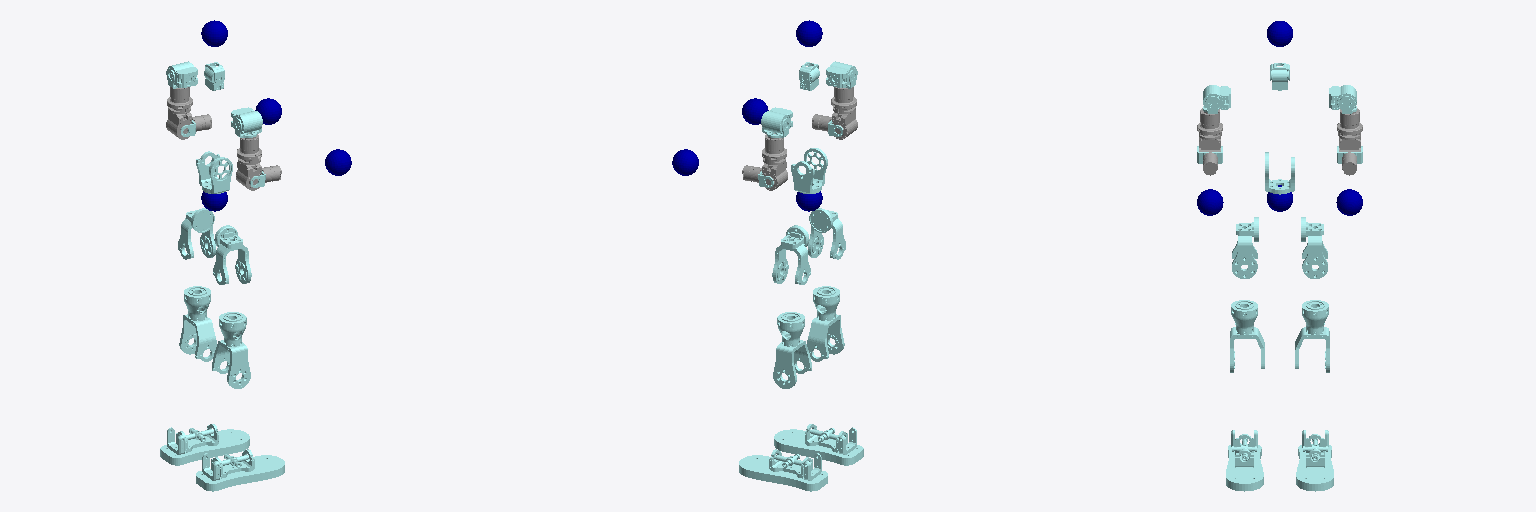
--- What the picture shows (computed from the rendered views, not written in the file) ---
Views: 3 orthographic renders of the robot side by side, from view 1: azimuth 30°, elevation 25°; view 2: azimuth 150°, elevation 25°; view 3: azimuth 270°, elevation 25°.
Model ymbot_E with 35 links and 34 joints (22 revolute, 12 fixed), rooted at base_link_o, posed all joints at 0.
Visible links, largest first — view 1: right_ankle_roll_link, left_ankle_roll_link, right_leg_yaw_link, left_leg_yaw_link, right_leg_pitch_link, left_leg_pitch_link, waist_yaw_link, right_arm_yaw_link, left_arm_yaw_link, left_shoulder_pitch_link, right_shoulder_pitch_link, right_hand_link (+1 smaller); view 2: left_ankle_roll_link, right_ankle_roll_link, left_leg_yaw_link, right_leg_yaw_link, left_leg_pitch_link, right_leg_pitch_link, waist_yaw_link, left_arm_yaw_link, right_arm_yaw_link, right_shoulder_pitch_link, left_hand_link, head_link_o (+1 smaller); view 3: left_ankle_roll_link, right_ankle_roll_link, left_leg_yaw_link, right_leg_yaw_link, left_leg_pitch_link, right_leg_pitch_link, left_arm_yaw_link, right_arm_yaw_link, waist_yaw_link, left_hand_link, right_hand_link, head_link_o.
Link boxes in pixels (x1=…): right_ankle_roll_link: x1=196, y1=449, x2=284, y2=491; left_ankle_roll_link: x1=160, y1=424, x2=249, y2=465; right_leg_yaw_link: x1=212, y1=312, x2=250, y2=388; left_leg_yaw_link: x1=179, y1=286, x2=216, y2=361; right_leg_pitch_link: x1=213, y1=225, x2=251, y2=284; left_leg_pitch_link: x1=178, y1=208, x2=215, y2=259; waist_yaw_link: x1=196, y1=151, x2=232, y2=193; right_arm_yaw_link: x1=236, y1=133, x2=261, y2=190; left_arm_yaw_link: x1=166, y1=87, x2=192, y2=139; left_shoulder_pitch_link: x1=168, y1=61, x2=197, y2=87; right_shoulder_pitch_link: x1=231, y1=107, x2=261, y2=133; right_hand_link: x1=325, y1=149, x2=351, y2=175; left_ankle_roll_link: x1=739, y1=449, x2=827, y2=491; right_ankle_roll_link: x1=774, y1=424, x2=863, y2=465; left_leg_yaw_link: x1=773, y1=312, x2=811, y2=388; right_leg_yaw_link: x1=807, y1=286, x2=844, y2=361; left_leg_pitch_link: x1=772, y1=225, x2=810, y2=284; right_leg_pitch_link: x1=808, y1=208, x2=845, y2=259; waist_yaw_link: x1=791, y1=148, x2=827, y2=193; left_arm_yaw_link: x1=762, y1=133, x2=787, y2=190; right_arm_yaw_link: x1=831, y1=87, x2=857, y2=139; right_shoulder_pitch_link: x1=826, y1=61, x2=855, y2=87; left_hand_link: x1=672, y1=149, x2=698, y2=175; head_link_o: x1=796, y1=20, x2=822, y2=46; left_ankle_roll_link: x1=1296, y1=430, x2=1333, y2=491; right_ankle_roll_link: x1=1226, y1=430, x2=1263, y2=491; left_leg_yaw_link: x1=1295, y1=300, x2=1329, y2=372; right_leg_yaw_link: x1=1230, y1=300, x2=1264, y2=372; left_leg_pitch_link: x1=1301, y1=217, x2=1327, y2=278; right_leg_pitch_link: x1=1232, y1=217, x2=1258, y2=278; left_arm_yaw_link: x1=1337, y1=108, x2=1362, y2=151; right_arm_yaw_link: x1=1197, y1=108, x2=1222, y2=151; waist_yaw_link: x1=1265, y1=152, x2=1294, y2=194; left_hand_link: x1=1336, y1=189, x2=1362, y2=215; right_hand_link: x1=1197, y1=189, x2=1223, y2=215; head_link_o: x1=1267, y1=21, x2=1292, y2=46.
Size in the robot's own frame: 0.4 by 0.4355 by 1.29 metres.
21 mesh visuals loaded from 28 distinct referenced files (21 binary STL); not drawn: 10 (reference not matched to a file when rendering).

robot.urdf — ymbot_E:
<?xml version="1.0" encoding="utf-8"?>
<!-- This URDF was automatically created by SolidWorks to URDF Exporter! Originally created by Stephen Brawner ([email redacted]) 
     Commit Version: 1.6.0-1-g15f4949  Build Version: 1.6.7594.29634
     For more information, please see http://wiki.ros.org/sw_urdf_exporter -->
<robot
  name="ymbot_E">
    <mujoco>
    <compiler meshdir="meshes"
      balanceinertia="true"
      discardvisual="false"/>
  </mujoco>
 
 
  <!--<link name="world"></link>
  <joint name="floating_base_joint" type="floating">
      <parent link="world" />
      <child link="base_link_o" />
  </joint>     --> 
  <!---->
  <link name="base_link_o">
    <inertial>
      <origin
        xyz="0  0 0"
        rpy="0 0 0" />
      <mass
        value="0.1" />
      <inertia
        ixx="0.00001"
        ixy="0"
        ixz="0"
        iyy="0.00001"
        iyz="0"
        izz="0.00001" />
    </inertial>
    <visual>
      <origin xyz="0.0 0.0 0.0" rpy="0 0 0"/>
        <geometry>
          <sphere radius="0.035"/>
        </geometry>
      <material name="blue">
        <color rgba="0.0 0.0 0.7 1"/>
      </material>
    </visual>
  </link>

  <joint name="base_link_o_joint" type="fixed">
    <origin xyz="0 0 -0.15" rpy="0 0 0"/>
    <parent link="base_link_o"/>
    <child link="base_link"/>
  </joint>   

  <link
    name="base_link">
    <inertial>
      <origin
        xyz="-3.3343E-05 -1.1085E-06 0.091155"
        rpy="0 0 0" />
      <mass
        value="2.8438" />
      <inertia
        ixx="0.01047866"
        ixy="-1E-07"
        ixz="3.95E-06"
        iyy="0.00941323"
        iyz="1.4E-07"
        izz="0.00564707" />
    </inertial>
    <visual>
      <origin
        xyz="0 0 0"
        rpy="0 0 0" />
      <geometry>
        <mesh
          filename="package://y1_description/meshes/base_Link.STL" />
      </geometry>
      <material
        name="">
        <color
          rgba="0.69804 0.69804 0.69804 1" />
      </material>
    </visual>
    <!-- <collision> 
      <origin
        xyz="0 0 0"
        rpy="0 0 0" />
      <geometry>
        <mesh
          filename="package://y1_description/meshes/base_Link.STL" />
      </geometry>
    </collision> -->
  </link>
  <!-- *************leg *********** -->
  <link
    name="left_leg_pitch_link">
    <inertial>
      <origin
        xyz="0.0026859 0.030181 -0.038307"
        rpy="0 0 0" />
      <mass
        value="0.47307" />
      <inertia
        ixx="0.00092108"
        ixy="-8.03E-06"
        ixz="8.425E-05"
        iyy="0.00111312"
        iyz="0.0001145"
        izz="0.00048142" />
    </inertial>
    <visual>
      <origin
        xyz="0 0 0"
        rpy="0 0 0" />
      <geometry>
        <mesh
          filename="package://y1_description/meshes/left_hip_pitch_Link.STL" />
      </geometry>
      <material
        name="">
        <color
          rgba="0.75294 1 1 1" />
      </material>
    </visual>
    <!-- <collision>
      <origin
        xyz="0 0 0"
        rpy="0 0 0" />
      <geometry>
        <mesh
          filename="package://y1_description/meshes/left_hip_pitch_Link.STL" />
      </geometry>
    </collision> -->
  </link>
  <joint
    name="Left_Leg_Joint1"
    type="revolute">
    <origin
      xyz="0 0.056 0.0605"
      rpy="0 0 0" />
    <parent
      link="base_link" />
    <child
      link="left_leg_pitch_link" />
    <axis
      xyz="0 1 0" />
    <limit
      lower="-1.5"
      upper="1.5"
      effort="94"
      velocity="14" />
  </joint>
  <link
    name="left_leg_roll_link">
    <inertial>
      <origin
        xyz="0.00077986 -7.5623E-06 -0.043617"
        rpy="0 0 0" />
      <mass
        value="1.7024" />
      <inertia
        ixx="0.005932"
        ixy="-2.4E-07"
        ixz="7.611E-05"
        iyy="0.00560798"
        iyz="-2.1E-07"
        izz="0.00196236" />
    </inertial>
    <visual>
      <origin
        xyz="0 0 0"
        rpy="0 0 0" />
      <geometry>
        <mesh
          filename="package://y1_description/meshes/left_hip_roll_Link.STL" />
      </geometry>
      <material
        name="">
        <color
          rgba="0.69804 0.69804 0.69804 1" />
      </material>
    </visual>
    <!-- <collision>
      <origin
        xyz="0 0 0"
        rpy="0 0 0" />
      <geometry>
        <mesh
          filename="package://y1_description/meshes/left_hip_roll_Link.STL" />
      </geometry>
    </collision> -->
  </link>
  <joint
    name="Left_Leg_Joint2"
    type="revolute">
    <origin
      xyz="0 0.0365 -0.092"
      rpy="0 0 0" />
    <parent
      link="left_leg_pitch_link" />
    <child
      link="left_leg_roll_link" />
    <axis
      xyz="1 0 0" />
    <limit
      lower="-0.8"
      upper="0.8"
      effort="94"
      velocity="14" />
    
  </joint>
  <link
    name="left_leg_yaw_link">
    <inertial>
      <origin
        xyz="1.8297E-09 -0.00090375 -0.083992"
        rpy="0 0 0" />
      <mass
        value="0.61054" />
      <inertia
        ixx="0.00236125"
        ixy="0"
        ixz="0"
        iyy="0.00202273"
        iyz="6.56E-06"
        izz="0.00073247" />
    </inertial>
    <visual>
      <origin
        xyz="0 0 0"
        rpy="0 0 0" />
      <geometry>
        <mesh
          filename="package://y1_description/meshes/left_hip_yaw_Link.STL" />
      </geometry>
      <material
        name="">
        <color
          rgba="0.75294 1 1 1" />
      </material>
    </visual>
    <collision>
      <origin
        xyz="0 0 0.06"
        rpy="0 0 0" />
      <geometry>
        <box size="0.11 0.11 0.2" />
      </geometry>
    </collision>
    <!-- <collision>
      <origin
        xyz="0 0 0"
        rpy="0 0 0" />
      <geometry>
        <mesh
          filename="package://y1_description/meshes/left_hip_yaw_Link.STL" />
      </geometry>
    </collision> -->
  </link>
  <joint
    name="Left_Leg_Joint3"
    type="revolute">
    <origin
      xyz="0.00175 0 -0.1245"
      rpy="0 0 0" />
    <parent
      link="left_leg_roll_link" />
    <child
      link="left_leg_yaw_link" />
    <axis
      xyz="0 0 1" />
    <limit
      lower="-1.5"
      upper="1.5"
      effort="60"
      velocity="14" />
    
  </joint>
  <link
    name="left_knee_link">
    <inertial>
      <origin
        xyz="-0.0024699 0.00032624 -0.075502"
        rpy="0 0 0" />
      <mass
        value="2.9443" />
      <inertia
        ixx="0.02349647"
        ixy="3.873E-05"
        ixz="-0.00076052"
        iyy="0.02465378"
        iyz="-0.00015709"
        izz="0.00339227" />
    </inertial>
    <visual>
      <origin
        xyz="0 0 0"
        rpy="0 0 0" />
      <geometry>
        <mesh
          filename="package://y1_description/meshes/left_knee_Link.STL" />
      </geometry>
      <material
        name="">
        <color
          rgba="0.69804 0.69804 0.69804 1" />
      </material>
    </visual>
    <!-- <collision>
      <origin
        xyz="0 0 0"
        rpy="0 0 0" />
      <geometry>
        <mesh
          filename="package://y1_description/meshes/left_knee_Link.STL" />
      </geometry>
    </collision> -->
    <collision>
      <origin
        xyz="0 0 -0.08"
        rpy="0 0 0" />
      <geometry>
        <box size="0.13 0.1 0.2" />
      </geometry>
    </collision>
  </link>
  <joint
    name="Left_Leg_Joint4"
    type="revolute">
    <origin
      xyz="0 0 -0.1605"
      rpy="0 0 0" />
    <parent
      link="left_leg_yaw_link" />
    <child
      link="left_knee_link" />
    <axis
      xyz="0 1 0" />
    <limit
      lower="-0.2"
      upper="1.5"
      effort="150"
      velocity="13" />
    
  </joint>
  <link
    name="left_ankle_pitch_link">
    <inertial>
      <origin
        xyz="0 0 0"
        rpy="0 0 0" />
      <mass
        value="0.023876" />
      <inertia
        ixx="9.56E-06"
        ixy="0"
        ixz="0"
        iyy="6.2E-07"
        iyz="0"
        izz="9.58E-06" />
    </inertial>
    <visual>
      <origin
        xyz="0 0 0"
        rpy="0 0 0" />
      <geometry>
        <mesh
          filename="package://y1_description/meshes/left_ankle_pitch_Link.STL" />
      </geometry>
      <material
        name="">
        <color
          rgba="0.75294 1 1 1" />
      </material>
    </visual>
    <!-- <collision>
      <origin
        xyz="0 0 0"
        rpy="0 0 0" />
      <geometry>
        <mesh
          filename="package://y1_description/meshes/left_ankle_pitch_Link.STL" />
      </geometry>
    </collision> -->
  </link>
  <joint
    name="Left_Leg_Joint5"
    type="revolute">
    <origin
      xyz="-4.3311E-05 0 -0.257"
      rpy="0 0.00016853 0" />
    <parent
      link="left_knee_link" />
    <child
      link="left_ankle_pitch_link" />
    <axis
      xyz="0 1 0" />
    <limit
      lower="-0.55"
      upper="0.55"
      effort="60"
      velocity="8" />
    
  </joint>
  <link
    name="left_ankle_roll_link">
    <inertial>
      <origin
        xyz="0.014848 -1.4543E-10 -0.032028"
        rpy="0 0 0" />
      <mass
        value="1.0326" />
      <inertia
        ixx="0.00080292"
        ixy="0"
        ixz="0.00023497"
        iyy="0.00476966"
        iyz="0"
        izz="0.00514199" />
    </inertial>
    <visual>
      <origin
        xyz="0 0 0"
        rpy="0 0 0" />
      <geometry>
        <mesh
          filename="package://y1_description/meshes/left_ankle_roll_Link.STL" />
      </geometry>
      <material
        name="">
        <color
          rgba="0.75294 1 1 1" />
      </material>
    </visual>
    <collision>
      <origin
        xyz="0 0 0"
        rpy="0 0 0" />
      <geometry>
        <mesh
          filename="package://y1_description/meshes/left_ankle_roll_Link.STL" />
      </geometry>
    </collision>
  </link>
  <joint
    name="Left_Leg_Joint6"
    type="revolute">
    <origin
      xyz="0 0 0"
      rpy="0 0 0" />
    <parent
      link="left_ankle_pitch_link" />
    <child
      link="left_ankle_roll_link" />
    <axis
      xyz="1 0 0" />
    <limit
      lower="-0.25"
      upper="0.25"
      effort="60"
      velocity="8" />
    
  </joint>

  <link name="left_foot_forward_link">
     <visual>
      <origin xyz="0.0 0.0 0.0" rpy="0 0 0"/>
        <geometry>
         <mesh
          filename="package://y1_description/meshes/box.STL" />
        </geometry>
      <material name="blue">
        <color rgba="0.0 0.0 0.7 1"/>
      </material>
    </visual>
  </link>
  <joint name="left_foot_forward_joint" type="fixed">
    <origin xyz="0.14 0 -0.058" rpy="0 0 0"/>
    <parent link="left_ankle_roll_link"/>
    <child link="left_foot_forward_link"/>
  </joint>

  <link name="left_foot_hind_link">
     <visual>
      <origin xyz="0.0 0.0 0.0" rpy="0 0 0"/>
        <geometry>
         <mesh
          filename="package://y1_description/meshes/box.STL" />
        </geometry>
      <material name="blue">
        <color rgba="0.0 0.0 0.7 1"/>
      </material>
    </visual>
  </link>
  <joint name="left_foot_hind_joint" type="fixed">
    <origin xyz="-0.08 0 -0.058" rpy="0 0 0"/>
    <parent link="left_ankle_roll_link"/>
    <child link="left_foot_hind_link"/>
  </joint>

  <link name="right_foot_forward_link">
     <visual>
      <origin xyz="0.0 0.0 0.0" rpy="0 0 0"/>
        <geometry>
         <mesh
          filename="package://y1_description/meshes/box.STL" />
        </geometry>
      <material name="blue">
        <color rgba="0.0 0.0 0.7 1"/>
      </material>
    </visual>
  </link>
  <joint name="right_foot_forward_joint" type="fixed">
    <origin xyz="0.14 0 -0.058" rpy="0 0 0"/>
    <parent link="right_ankle_roll_link"/>
    <child link="right_foot_forward_link"/>
  </joint>

  <link name="right_foot_hind_link">
     <visual>
      <origin xyz="0.0 0.0 0.0" rpy="0 0 0"/>
        <geometry>
         <mesh
          filename="package://y1_description/meshes/box.STL" />
        </geometry>
      <material name="blue">
        <color rgba="0.0 0.0 0.7 1"/>
      </material>
    </visual>
  </link>
  <joint name="right_foot_hind_joint" type="fixed">
    <origin xyz="-0.08 0 -0.058" rpy="0 0 0"/>
    <parent link="right_ankle_roll_link"/>
    <child link="right_foot_hind_link"/>
  </joint>
  <link
    name="right_leg_pitch_link">
    <inertial>
      <origin
        xyz="0.0026859 -0.030181 -0.038307"
        rpy="0 0 0" />
      <mass
        value="0.47307" />
      <inertia
        ixx="0.00092108"
        ixy="8.03E-06"
        ixz="8.425E-05"
        iyy="0.00111312"
        iyz="-0.0001145"
        izz="0.00048142" />
    </inertial>
    <visual>
      <origin
        xyz="0 0 0"
        rpy="0 0 0" />
      <geometry>
        <mesh
          filename="package://y1_description/meshes/right_hip_pitch_Link.STL" />
      </geometry>
      <material
        name="">
        <color
          rgba="0.75294 1 1 1" />
      </material>
    </visual>
    <!-- <collision>
      <origin
        xyz="0 0 0"
        rpy="0 0 0" />
      <geometry>
        <mesh
          filename="package://y1_description/meshes/right_hip_pitch_Link.STL" />
      </geometry>
    </collision> -->
  </link>
  <joint
    name="Right_Leg_Joint1"
    type="revolute">
    <origin
      xyz="0 -0.056 0.0605"
      rpy="0 0 0" />
    <parent
      link="base_link" />
    <child
      link="right_leg_pitch_link" />
    <axis
      xyz="0 1 0" />
    <limit
      lower="-1.5"
      upper="1.5"
      effort="94"
      velocity="14" />
    
  </joint>
  <link
    name="right_leg_roll_link">
    <inertial>
      <origin
        xyz="0.00077986 -7.5623E-06 -0.043617"
        rpy="0 0 0" />
      <mass
        value="1.7024" />
      <inertia
        ixx="0.005932"
        ixy="-2.4E-07"
        ixz="7.611E-05"
        iyy="0.00560798"
        iyz="-2.1E-07"
        izz="0.00196236" />
    </inertial>
    <visual>
      <origin
        xyz="0 0 0"
        rpy="0 0 0" />
      <geometry>
        <mesh
          filename="package://y1_description/meshes/right_hip_roll_Link.STL" />
      </geometry>
      <material
        name="">
        <color
          rgba="0.69804 0.69804 0.69804 1" />
      </material>
    </visual>
    <!-- <collision>
      <origin
        xyz="0 0 0"
        rpy="0 0 0" />
      <geometry>
        <mesh
          filename="package://y1_description/meshes/right_hip_roll_Link.STL" />
      </geometry>
    </collision> -->
  </link>
  <joint
    name="Right_Leg_Joint2"
    type="revolute">
    <origin
      xyz="0 -0.0365 -0.092"
      rpy="0 0 0" />
    <parent
      link="right_leg_pitch_link" />
    <child
      link="right_leg_roll_link" />
    <axis
      xyz="1 0 0" />
    <limit
      lower="-0.8"
      upper="0.8"
      effort="94"
      velocity="14" />
    
  </joint>
  <link
    name="right_leg_yaw_link">
    <inertial>
      <origin
        xyz="1.6241E-09 0.00090374 -0.083992"
        rpy="0 0 0" />
      <mass
        value="0.61054" />
      <inertia
        ixx="0.00236125"
        ixy="0"
        ixz="0"
        iyy="0.00202273"
        iyz="-6.56E-06"
        izz="0.00073247" />
    </inertial>
    <visual>
      <origin
        xyz="0 0 0"
        rpy="0 0 0" />
      <geometry>
        <mesh
          filename="package://y1_description/meshes/right_hip_yaw_Link.STL" />
      </geometry>
      <material
        name="">
        <color
          rgba="0.75294 1 1 1" />
      </material>
    </visual>
    <!-- <collision>
      <origin
        xyz="0 0 0"
        rpy="0 0 0" />
      <geometry>
        <mesh
          filename="package://y1_description/meshes/right_hip_yaw_Link.STL" />
      </geometry>
    </collision> -->
    <collision>
      <origin
        xyz="0 0 0.06"
        rpy="0 0 0" />
      <geometry>
        <box size="0.11 0.11 0.2" />
      </geometry>
    </collision>
  </link>
  <joint
    name="Right_Leg_Joint3"
    type="revolute">
    <origin
      xyz="0.00175 0 -0.1245"
      rpy="0 0 0" />
    <parent
      link="right_leg_roll_link" />
    <child
      link="right_leg_yaw_link" />
    <axis
      xyz="0 0 1" />
    <limit
      lower="-1.5"
      upper="1.5"
      effort="60"
      velocity="13" />
    
  </joint>
  <link
    name="right_knee_link">
    <inertial>
      <origin
        xyz="-0.0024694 -0.00032624 -0.0755"
        rpy="0 0 0" />
      <mass
        value="2.9443" />
      <inertia
        ixx="0.02349562"
        ixy="-3.885E-05"
        ixz="-0.00076039"
        iyy="0.02465291"
        iyz="0.00015709"
        izz="0.00339225" />
    </inertial>
    <visual>
      <origin
        xyz="0 0 0"
        rpy="0 0 0" />
      <geometry>
        <mesh
          filename="package://y1_description/meshes/right_knee_Link.STL" />
      </geometry>
      <material
        name="">
        <color
          rgba="0.69804 0.69804 0.69804 1" />
      </material>
    </visual>
    <collision>
      <origin
        xyz="0 0 -0.08"
        rpy="0 0 0" />
      <geometry>
        <box size="0.13 0.1 0.2" />
      </geometry>
    </collision>
    <!-- <collision>
      <origin
        xyz="0 0 0"
        rpy="0 0 0" />
      <geometry>
        <mesh
          filename="package://y1_description/meshes/right_knee_Link.STL" />
      </geometry>
    </collision> -->
  </link>
  <joint
    name="Right_Leg_Joint4"
    type="revolute">
    <origin
      xyz="0 0 -0.1605"
      rpy="0 0 0" />
    <parent
      link="right_leg_yaw_link" />
    <child
      link="right_knee_link" />
    <axis
      xyz="0 1 0" />
    <limit
      lower="-0.2"
      upper="1.5"
      effort="150"
      velocity="13" />
    
  </joint>
  <link
    name="right_ankle_pitch_link">
    <inertial>
      <origin
        xyz="0 0 0"
        rpy="0 0 0" />
      <mass
        value="0.023876" />
      <inertia
        ixx="9.56E-06"
        ixy="0"
        ixz="0"
        iyy="6.2E-07"
        iyz="0"
        izz="9.58E-06" />
    </inertial>
    <visual>
      <origin
        xyz="0 0 0"
        rpy="0 0 0" />
      <geometry>
        <mesh
          filename="package://y1_description/meshes/right_ankle_pitch_Link.STL" />
      </geometry>
      <material
        name="">
        <color
          rgba="0.75294 1 1 1" />
      </material>
    </visual>
    <!-- <collision>
      <origin
        xyz="0 0 0"
        rpy="0 0 0" />
      <geometry>
        <mesh
          filename="package://y1_description/meshes/right_ankle_pitch_Link.STL" />
      </geometry>
    </collision> -->
  </link>
  <joint
    name="Right_Leg_Joint5"
    type="revolute">
    <origin
      xyz="-4.3311E-05 0 -0.257"
      rpy="0 0.00016853 0" />
    <parent
      link="right_knee_link" />
    <child
      link="right_ankle_pitch_link" />
    <axis
      xyz="0 1 0" />
    <limit
      lower="-0.55"
      upper="0.55"
      effort="60"
      velocity="8" />
    
  </joint>
  <link
    name="right_ankle_roll_link">
    <inertial>
      <origin
        xyz="0.014848 -1.4543E-10 -0.032028"
        rpy="0 0 0" />
      <mass
        value="1.0326" />
      <inertia
        ixx="0.00080292"
        ixy="0"
        ixz="0.00023497"
        iyy="0.00476966"
        iyz="0"
        izz="0.00514199" />
    </inertial>
    <visual>
      <origin
        xyz="0 0 0"
        rpy="0 0 0" />
      <geometry>
        <mesh
          filename="package://y1_description/meshes/right_ankle_roll_Link.STL" />
      </geometry>
      <material
        name="">
        <color
          rgba="0.75294 1 1 1" />
      </material>
    </visual>
    <collision>
      <origin
        xyz="0 0 0"
        rpy="0 0 0" />
      <geometry>
        <mesh
          filename="package://y1_description/meshes/right_ankle_roll_Link.STL" />
      </geometry>
    </collision>
  </link>
  <joint
    name="Right_Leg_Joint6"
    type="revolute">
    <origin
      xyz="0 0 0"
      rpy="0 0 0" />
    <parent
      link="right_ankle_pitch_link" />
    <child
      link="right_ankle_roll_link" />
    <axis
      xyz="1 0 0" />
    <limit
      lower="-0.25"
      upper="0.25"
      effort="60"
      velocity="8" />
    
  </joint>
  <link
    name="waist_yaw_link">
    <inertial>
      <origin
        xyz="-2.1511E-16 0.0022818 0.032571"
        rpy="0 0 0" />
      <mass
        value="0.28376" />
      <inertia
        ixx="0.00045846"
        ixy="0"
        ixz="0"
        iyy="0.0002941"
        iyz="-7.56E-06"
        izz="0.00034163" />
    </inertial>
    <visual>
      <origin
        xyz="0 0 0"
        rpy="0 0 0" />
      <geometry>
        <mesh
          filename="package://y1_description/meshes/waist_yaw_Link.STL" />
      </geometry>
      <material
        name="">
        <color
          rgba="0.75294 1 1 1" />
      </material>
    </visual>
    <!-- <collision>
      <origin
        xyz="0 0 0"
        rpy="0 0 0" />
      <geometry>
        <mesh
          filename="package://y1_description/meshes/waist_yaw_Link.STL" />
      </geometry>
    </collision> -->
  </link>
  <joint
    name="waist_yaw_joint"
    type="revolute">
    <origin
      xyz="0 0 0.177"
      rpy="0 0 0" />
    <parent
      link="base_link" />
    <child
      link="waist_yaw_link" />
    <axis
      xyz="0 0 1" />
     <limit
      lower="-1.5"
      upper="1.5"
      effort="94"
      velocity="14" />
    
  </joint>
  <link
    name="body_link">
    <inertial>
      <origin
        xyz="-0.0028767 -0.00011839 0.11218"
        rpy="0 0 0" />
      <mass
        value="8.3189" />
      <inertia
        ixx="0.04961812"
        ixy="6.189E-05"
        ixz="-0.00083894"
        iyy="0.0439223"
        iyz="2.844E-05"
        izz="0.03238861" />
    </inertial>
    <visual>
      <origin
        xyz="0 0 0"
        rpy="0 0 0" />
      <geometry>
        <mesh
          filename="package://y1_description/meshes/troso_Link.STL" />
      </geometry>
      <material
        name="">
        <color
          rgba="0.69804 0.69804 0.69804 1" />
      </material>
    </visual>
    <!-- <collision>
      <origin
        xyz="0 0 0"
        rpy="0 0 0" />
      <geometry>
        <mesh
          filename="package://y1_description/meshes/troso_Link.STL" />
      </geometry>
    </collision> -->
         <collision>
      <origin
        xyz="0 0 0.1"
        rpy="0 0 0" />
      <geometry>
        <box size="0.25 0.15 0.25"/>
      </geometry>
    </collision>
  </link>
  <joint
    name="waist_pitch_joint"
    type="revolute">
    <origin
      xyz="0 0 0.069"
      rpy="0 0 0" />
    <parent
      link="waist_yaw_link" />
    <child
      link="body_link" />
    <axis
      xyz="0 1 0" />
    <limit
      lower="-1.5"
      upper="1.5"
      effort="94"
      velocity="14" />
    
  </joint>
  
  
 
  <link name="head_link_o">
     <visual>
      <origin xyz="0.0 0.0 0.0" rpy="0 0 0"/>
        <geometry>
          <sphere radius="0.035"/>
        </geometry>
      <material name="blue">
        <color rgba="0.0 0.0 0.7 1"/>
      </material>
    </visual>
  </link>
  <joint name="head_o_joint" type="fixed">
    <origin xyz="0 0 0.38" rpy="0 0 0"/>
    <parent link="body_link"/>
    <child link="head_link_o"/>
  </joint>
  <link name="left_hand_link">
     <visual>
      <origin xyz="0.0 0.0 0.0" rpy="0 0 0"/>
        <geometry>
          <sphere radius="0.035"/>
        </geometry>
      <material name="blue">
        <color rgba="0.0 0.0 0.7 1"/>
      </material>
    </visual>
  </link>
  <joint name="left_hand_joint" type="fixed">
    <origin xyz="0 0 -0.27" rpy="0 0 0"/>
    <parent link="left_elbow_pitch_link"/>
    <child link="left_hand_link"/>
  </joint>
    <link name="right_hand_link">
     <visual>
      <origin xyz="0.0 0.0 0.0" rpy="0 0 0"/>
        <geometry>
          <sphere radius="0.035"/>
        </geometry>
      <material name="blue">
        <color rgba="0.0 0.0 0.7 1"/>
      </material>
    </visual>
  </link>
  <joint name="right_hand_joint" type="fixed">
    <origin xyz="0 0 -0.27" rpy="0 0 0"/>
    <parent link="right_elbow_pitch_link"/>
    <child link="right_hand_link"/>
  </joint>
  <!-- arm****************************** -->
   <link
    name="left_shoulder_pitch_link">
    <inertial>
      <origin
        xyz="0.021414 0.043756 -8.8117E-09"
        rpy="0 0 0" />
      <mass
        value="0.48864" />
      <inertia
        ixx="0.00016103"
        ixy="-3.426E-05"
        ixz="0"
        iyy="9.344E-05"
        iyz="0"
        izz="0.00014485" />
    </inertial>
    <visual>
      <origin
        xyz="0 0 0"
        rpy="0 0 0" />
      <geometry>
        <mesh
          filename="package://y1_description/meshes/left_shoulder_pitch_Link.STL" />
      </geometry>
      <material
        name="">
        <color
          rgba="0.75294 1 1 1" />
      </material>
    </visual>
    <!-- <collision>
      <origin
        xyz="0 0 0"
        rpy="0 0 0" />
      <geometry>
        <mesh
          filename="package://y1_description/meshes/left_shoulder_pitch_Link.STL" />
      </geometry>
    </collision> -->
  </link>
  <joint
    name="left_shoulder_pitch_joint"
    type="revolute">
    <origin
      xyz="0 0.12875 0.1945"
      rpy="0 0 0" />
    <parent
      link="body_link" />
    <child
      link="left_shoulder_pitch_link" />
    <axis
      xyz="0 1 0" />
    <limit
      lower="-1.57"
      upper="1.57"
      effort="12"
      velocity="5" />
    
  </joint>
  <link
    name="left_shoulder_roll_link">
    <inertial>
      <origin
        xyz="2.2551E-15 0.0016422 -0.019214"
        rpy="0 0 0" />
      <mass
        value="0.053968" />
      <inertia
        ixx="1.807E-05"
        ixy="0"
        ixz="0"
        iyy="4.642E-05"
        iyz="9.7E-07"
        izz="4.108E-05" />
    </inertial>
    <visual>
      <origin
        xyz="0 0 0"
        rpy="0 0 0" />
      <geometry>
        <mesh
          filename="package://y1_description/meshes/left_shoulder_roll_Link.STL" />
      </geometry>
      <material
        name="">
        <color
          rgba="0.75294 1 1 1" />
      </material>
    </visual>
    <!-- <collision>
      <origin
        xyz="0 0 0"
        rpy="0 0 0" />
      <geometry>
        <mesh
          filename="package://y1_description/meshes/left_shoulder_roll_Link.STL" />
      </geometry>
    </collision> -->
  </link>
  <joint
    name="left_shoulder_roll_joint"
    type="revolute">
    <origin
      xyz="0 0.047 0"
      rpy="0 0 0" />
    <parent
      link="left_shoulder_pitch_link" />
    <child
      link="left_shoulder_roll_link" />
    <axis
      xyz="1 0 0" />
    <limit
      lower="-0.1"
      upper="3.14"
      effort="12"
      velocity="5" />
    
  </joint>
  <link
    name="left_arm_yaw_link">
    <inertial>
      <origin
        xyz="2.3792E-05 0.010631 -0.080367"
        rpy="0 0 0" />
      <mass
        value="0.9843" />
      <inertia
        ixx="0.00218027"
        ixy="2.5E-07"
        ixz="-6.3E-07"
        iyy="0.00208033"
        iyz="0.00046107"
        izz="0.00040191" />
    </inertial>
    <visual>
      <origin
        xyz="0 0 0"
        rpy="0 0 0" />
      <geometry>
        <mesh
          filename="package://y1_description/meshes/left_shoulder_yaw_Link.STL" />
      </geometry>
      <material
        name="">
        <color
          rgba="0.69804 0.69804 0.69804 1" />
      </material>
    </visual>
    <collision>
      <origin
        xyz="0 0 0"
        rpy="0 0 0" />
      <geometry>
        <mesh
          filename="package://y1_description/meshes/left_shoulder_yaw_Link.STL" />
      </geometry>
    </collision>
  </link>
  <joint
    name="left_arm_yaw_joint"
    type="revolute">
    <origin
      xyz="0 0.007 -0.033"
      rpy="0 0 0" />
    <parent
      link="left_shoulder_roll_link" />
    <child
      link="left_arm_yaw_link" />
    <axis
      xyz="0 0 1" />
    <limit
      lower="-1.57"
      upper="1.57"
      effort="12"
      velocity="5" />
    
  </joint>
  <link
    name="left_elbow_pitch_link">
    <inertial>
      <origin
        xyz="-6.9389E-18 5.5511E-17 -0.02168"
        rpy="0 0 0" />
      <mass
        value="0.047607" />
      <inertia
        ixx="3.565E-05"
        ixy="1.9181E-21"
        ixz="-6.7739E-21"
        iyy="1.1477E-05"
        iyz="6.632E-20"
        izz="3.3394E-05" />
    </inertial>
    <visual>
      <origin
        xyz="0 0 0"
        rpy="0 0 0" />
      <geometry>
        <mesh
          filename="package://y1_description/meshes/left_elbow_Link.STL" />
      </geometry>
      <material
        name="">
        <color
          rgba="0.75294 1 1 1" />
      </material>
    </visual>
    <!-- <collision>
      <origin
        xyz="0 0 0"
        rpy="0 0 0" />
      <geometry>
        <mesh
          filename="package://y1_description/meshes/left_elbow_Link.STL" />
      </geometry>
    </collision> -->
  </link>
  <joint
    name="left_elbow_pitch_joint"
    type="revolute">
    <origin
      xyz="0 0 -0.1244"
      rpy="0 -1.5 0" />
    <parent
      link="left_arm_yaw_link" />
    <child
      link="left_elbow_pitch_link" />
    <axis
      xyz="0 1 0" />
    <limit
      lower="-1.57"
      upper="1.57"
      effort="12"
      velocity="5" /> 
  </joint>
  <link
    name="left_elbow_yaw_link">
    <inertial>
      <origin
        xyz="9.1097E-08 6.6946E-09 -0.027001"
        rpy="0 0 0" />
      <mass
        value="0.19413" />
      <inertia
        ixx="6.4303E-05"
        ixy="-1.9412E-09"
        ixz="-5.5614E-10"
        iyy="6.5316E-05"
        iyz="-1.3331E-11"
        izz="3.7539E-05" />
    </inertial>
    <visual>
      <origin
        xyz="0 0 0"
        rpy="0 0 0" />
      <geometry>
        <mesh
          filename="package://y1_description/meshes/left_wrist_yaw_Link.STL" />
      </geometry>
      <material
        name="">
        <color
          rgba="0.69804 0.69804 0.69804 1" />
      </material>
    </visual>
    <!-- <collision>
      <origin
        xyz="0 0 0"
        rpy="0 0 0" />
      <geometry>
        <mesh
          filename="package://y1_description/meshes/left_wrist_yaw_Link.STL" />
      </geometry>
    </collision> -->
  </link>
  <joint
    name="left_wrist_yaw_joint"
    type="fixed">
    <origin
      xyz="0 0 -0.034"
      rpy="0 0 0" />
    <parent
      link="left_elbow_pitch_link" />
    <child
      link="left_elbow_yaw_link" />
    <axis
      xyz="0 0 1" />
    <limit
      lower="-1.57"
      upper="1.57"
      effort="6"
      velocity="5" />
    
  </joint>
  <link
    name="right_shoulder_pitch_link">
    <inertial>
      <origin
        xyz="-0.021414 -0.043756 -8.8117E-09"
        rpy="0 0 0" />
      <mass
        value="0.48864" />
      <inertia
        ixx="0.00016103"
        ixy="-3.426E-05"
        ixz="0"
        iyy="9.344E-05"
        iyz="0"
        izz="0.00014485" />
    </inertial>
    <visual>
      <origin
        xyz="0 0 0"
        rpy="0 0 0" />
      <geometry>
        <mesh
          filename="package://y1_description/meshes/right_shoulder_pitch_Link.STL" />
      </geometry>
      <material
        name="">
        <color
          rgba="0.75294 1 1 1" />
      </material>
    </visual>
    <!-- <collision>
      <origin
        xyz="0 0 0"
        rpy="0 0 0" />
      <geometry>
        <mesh
          filename="package://y1_description/meshes/right_shoulder_pitch_Link.STL" />
      </geometry>
    </collision> -->
  </link>
  <joint
    name="right_shoulder_pitch_joint"
    type="revolute">
    <origin
      xyz="0 -0.12875 0.1945"
      rpy="0 0 0" />
    <parent
      link="body_link" />
    <child
      link="right_shoulder_pitch_link" />
    <axis
      xyz="0 1 0" />
    <limit
      lower="-1.57"
      upper="1.57"
      effort="12"
      velocity="5" />
    
  </joint>
  <link
    name="right_shoulder_roll_link">
    <inertial>
      <origin
        xyz="1.3878E-16 -0.0016422 -0.019214"
        rpy="0 0 0" />
      <mass
        value="0.053968" />
      <inertia
        ixx="1.8069E-05"
        ixy="-3.0712E-22"
        ixz="1.1424E-19"
        iyy="4.6417E-05"
        iyz="9.6777E-07"
        izz="4.1079E-05" />
    </inertial>
    <visual>
      <origin
        xyz="0 0 0"
        rpy="0 0 0" />
      <geometry>
        <mesh
          filename="package://y1_description/meshes/right_shoulder_roll_Link.STL" />
      </geometry>
      <material
        name="">
        <color
          rgba="0.75294 1 1 1" />
      </material>
    </visual>
    <!--<collision>
      <origin
        xyz="0 0 0"
        rpy="0 0 0" />
      <geometry>
        <mesh
          filename="package://y1_description/meshes/right_shoulder_roll_Link.STL" />
      </geometry>
    </collision> -->
  </link>
  <joint
    name="right_shoulder_roll_joint"
    type="revolute">
    <origin
      xyz="0 -0.047 0"
      rpy="0 0 0" />
    <parent
      link="right_shoulder_pitch_link" />
    <child
      link="right_shoulder_roll_link" />
    <axis
      xyz="1 0 0" />
    <limit
      lower="-3.14"
      upper="0.1"
      effort="12"
      velocity="5" />
    
  </joint>
  <link
    name="right_arm_yaw_link">
    <inertial>
      <origin
        xyz="-2.3783E-05 0.010631 -0.080367"
        rpy="0 0 0" />
      <mass
        value="0.9843" />
      <inertia
        ixx="0.00218027"
        ixy="-2.5E-07"
        ixz="6.3E-07"
        iyy="0.00208033"
        iyz="0.00046107"
        izz="0.00040191" />
    </inertial>
    <visual>
      <origin
        xyz="0 0 0"
        rpy="0 0 0" />
      <geometry>
        <mesh
          filename="package://y1_description/meshes/right_shoulder_yaw_Link.STL" />
      </geometry>
      <material
        name="">
        <color
          rgba="0.69804 0.69804 0.69804 1" />
      </material>
    </visual>
    <collision>
      <origin
        xyz="0 0 0"
        rpy="0 0 0" />
      <geometry>
        <mesh
          filename="package://y1_description/meshes/right_shoulder_yaw_Link.STL" />
      </geometry>
    </collision>
  </link>
  <joint
    name="right_arm_yaw_joint"
    type="revolute">
    <origin
      xyz="0 -0.007 -0.033"
      rpy="0 0 0" />
    <parent
      link="right_shoulder_roll_link" />
    <child
      link="right_arm_yaw_link" />
    <axis
      xyz="0 0 1" />
    <limit
      lower="-1.57"
      upper="1.57"
      effort="12"
      velocity="5" />
    
  </joint>
  <link
    name="right_elbow_pitch_link">
    <inertial>
      <origin
        xyz="0 0 -0.02168"
        rpy="0 0 0" />
      <mass
        value="0.047607" />
      <inertia
        ixx="3.565E-05"
        ixy="1.7695E-21"
        ixz="-2.7893E-21"
        iyy="1.1477E-05"
        iyz="3.3691E-20"
        izz="3.3394E-05" />
    </inertial>
    <visual>
      <origin
        xyz="0 0 0"
        rpy="0 0 0" />
      <geometry>
        <mesh
          filename="package://y1_description/meshes/right_elbow_Link.STL" />
      </geometry>
      <material
        name="">
        <color
          rgba="0.75294 1 1 1" />
      </material>
    </visual>
    <!-- <collision>
      <origin
        xyz="0 0 0"
        rpy="0 0 0" />
      <geometry>
        <mesh
          filename="package://y1_description/meshes/right_elbow_Link.STL" />
      </geometry>
    </collision> -->
  </link>
  <joint
    name="right_elbow_pitch_joint"
    type="revolute">
    <origin
      xyz="0 0 -0.1244"
      rpy="0 -1.5 0" />
    <parent
      link="right_arm_yaw_link" />
    <child
      link="right_elbow_pitch_link" />
    <axis
      xyz="0 1 0" />
    <limit
      lower="-1.57"
      upper="1.57"
      effort="12"
      velocity="5" />
    
  </joint>
  <link
    name="right_elbow_yaw_link">
    <inertial>
      <origin
        xyz="9.1097E-08 6.6946E-09 -0.027001"
        rpy="0 0 0" />
      <mass
        value="0.19413" />
      <inertia
        ixx="6.4303E-05"
        ixy="-1.9412E-09"
        ixz="-5.5614E-10"
        iyy="6.5316E-05"
        iyz="-1.3331E-11"
        izz="3.7539E-05" />
    </inertial>
    <visual>
      <origin
        xyz="0 0 0"
        rpy="0 0 0" />
      <geometry>
        <mesh
          filename="package://y1_description/meshes/right_wrist_yaw_Link.STL" />
      </geometry>
      <material
        name="">
        <color
          rgba="0.69804 0.69804 0.69804 1" />
      </material>
    </visual>
    <!-- <collision>
      <origin
        xyz="0 0 0"
        rpy="0 0 0" />
      <geometry>
        <mesh
          filename="package://y1_description/meshes/right_wrist_yaw_Link.STL" />
      </geometry>
    </collision> -->
  </link>
  <joint
    name="right_elbow_yaw_joint"
    type="fixed">
    <origin
      xyz="0 0 -0.034"
      rpy="0 0 0" />
    <parent
      link="right_elbow_pitch_link" />
    <child
      link="right_elbow_yaw_link" />
    <axis
      xyz="0 0 1" />
    <limit
      lower="-1.57"
      upper="1.57"
      effort="6"
      velocity="5" />
    
  </joint>
  <link
    name="neck_yaw_link">
    <inertial>
      <origin
        xyz="-3.1249E-09 0.0051237 0.026399"
        rpy="0 0 0" />
      <mass
        value="0.2254" />
      <inertia
        ixx="6.041E-05"
        ixy="0"
        ixz="0"
        iyy="7.221E-05"
        iyz="-1.58E-05"
        izz="4.51E-05" />
    </inertial>
    <visual>
      <origin
        xyz="0 0 0"
        rpy="0 0 0" />
      <geometry>
        <mesh
          filename="package://y1_description/meshes/neck_yaw_Link.STL" />
      </geometry>
      <material
        name="">
        <color
          rgba="0.75294 1 1 1" />
      </material>
    </visual>
    <!-- <collision>
      <origin
        xyz="0 0 0"
        rpy="0 0 0" />
      <geometry>
        <mesh
          filename="package://y1_description/meshes/neck_yaw_Link.STL" />
      </geometry>
    </collision> -->
  </link>
  <joint
    name="neck_yaw_Joint"
    type="fixed">
    <origin
      xyz="0 0 0.2215"
      rpy="0 0 0" />
    <parent
      link="body_link" />
    <child
      link="neck_yaw_link" />
    <axis
      xyz="0 0 1" />
    <limit
      lower="-1.57"
      upper="1.57"
      effort="6"
      velocity="5" />
    
  </joint>
  <link
    name="head_link">
    <inertial>
      <origin
        xyz="-8.1711E-11 2.4323E-11 0.015553"
        rpy="0 0 0" />
      <mass
        value="0.033242" />
      <inertia
        ixx="1.8161E-05"
        ixy="-2.8105E-15"
        ixz="-1.6126E-14"
        iyy="7.233E-06"
        iyz="2.9174E-15"
        izz="1.6955E-05" />
    </inertial>
    <visual>
      <origin
        xyz="0 0 0"
        rpy="0 0 0" />
      <geometry>
        <mesh
          filename="package://y1_description/meshes/head_Link.STL" />
      </geometry>
      <material
        name="">
        <color
          rgba="0.75294 1 1 1" />
      </material>
    </visual>
    <!-- <collision>
      <origin
        xyz="0 0 0"
        rpy="0 0 0" />
      <geometry>
        <mesh
          filename="package://y1_description/meshes/head_Link.STL" />
      </geometry>
    </collision> -->
  </link>
  <joint
    name="head_Joint"
    type="fixed">
    <origin
      xyz="0 0 0.039"
      rpy="0 0 0" />
    <parent
      link="neck_yaw_link" />
    <child
      link="head_link" />
    <axis
      xyz="0 1 0" />
    <limit
      lower="-1.57"
      upper="1.57"
      effort="6"
      velocity="5" />
    
  </joint>
</robot>
